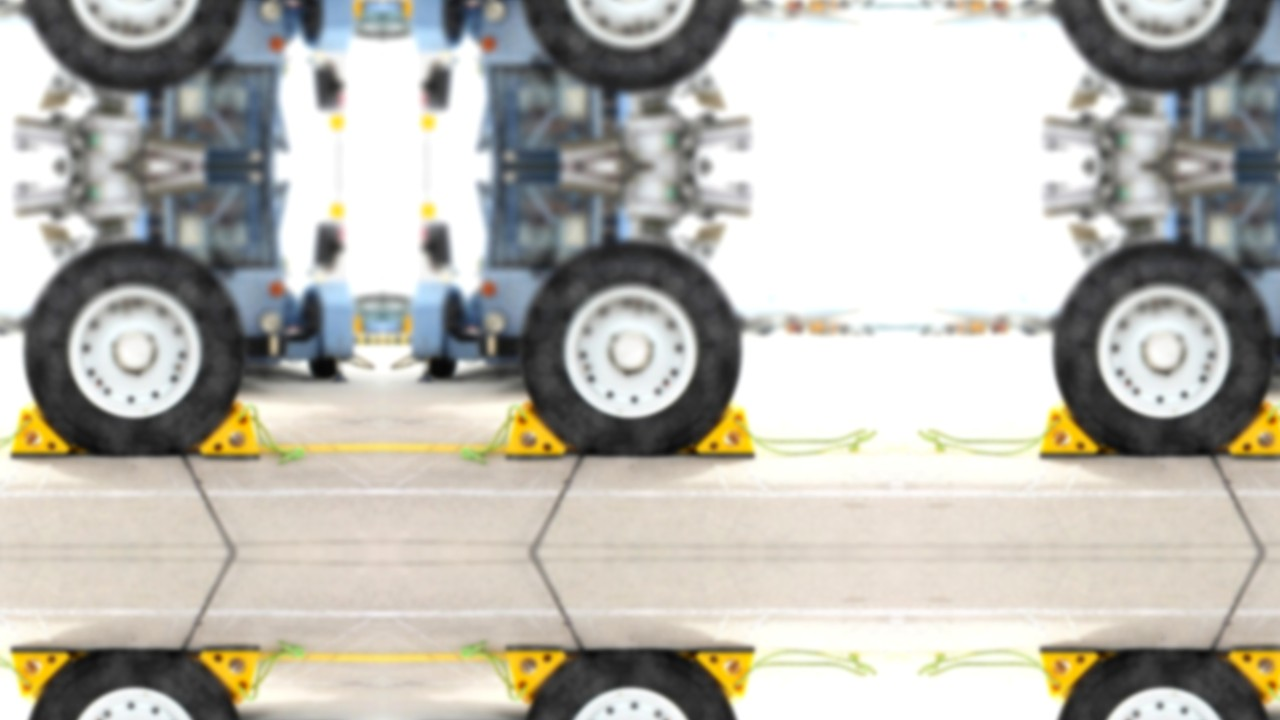chock: (192, 647, 261, 705), (504, 647, 573, 705), (192, 401, 261, 458), (504, 401, 573, 458), (9, 399, 74, 458), (691, 399, 756, 458), (1039, 399, 1104, 458), (9, 648, 74, 707), (691, 648, 756, 707), (1039, 648, 1104, 707), (1222, 647, 1280, 705), (1222, 401, 1280, 458)
wheel: (1055, 244, 1270, 456), (26, 244, 240, 456), (525, 244, 739, 456), (1055, 0, 1270, 90), (26, 0, 240, 90), (525, 0, 739, 90), (1055, 650, 1270, 720), (26, 650, 240, 720), (525, 650, 739, 720), (309, 357, 336, 378), (429, 357, 456, 378)
